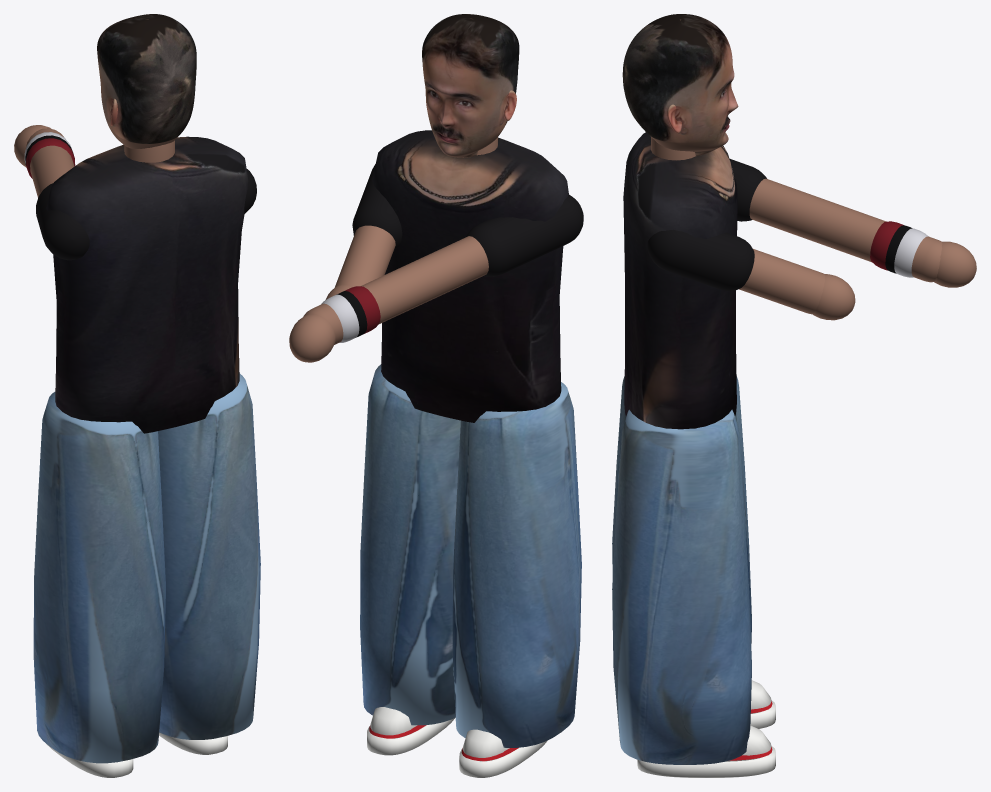
Rendered from broski.glb.
3 renders of one model, left to right at view 1: azimuth 30°, elevation 25°; view 2: azimuth 150°, elevation 25°; view 3: azimuth 270°, elevation 25°, orthographic. The views are drawn at different scales.
Parts seen in each view (by area): view 1: Busto, GambaSX, GambaDX, Testa, Braccia; view 2: GambaSX, Busto, GambaDX, Braccia, Testa; view 3: GambaDX, Busto, Braccia, Testa, GambaSX.
Part boxes in pixels (x1,y1,x2,y2): Busto: (46, 136, 248, 433); GambaSX: (33, 392, 165, 777); GambaDX: (158, 373, 260, 754); Testa: (97, 14, 196, 162); Braccia: (14, 125, 256, 260); GambaSX: (452, 382, 581, 777); Busto: (372, 130, 568, 422); GambaDX: (360, 364, 460, 755); Braccia: (289, 164, 583, 362); Testa: (422, 14, 519, 157); GambaDX: (612, 409, 775, 777); Busto: (623, 132, 737, 429); Braccia: (647, 159, 976, 320); Testa: (622, 14, 738, 160); GambaSX: (612, 376, 775, 728).
Size of the model in its own units: 0.553 by 1.85 by 0.8415.
14 materials, 6 textured.
